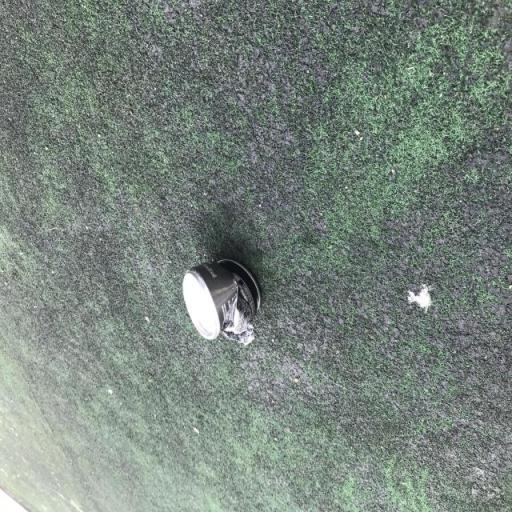metal: (164, 240, 269, 360)
